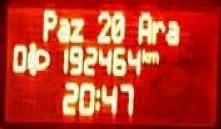0: (77, 79, 92, 114), (110, 11, 126, 42), (11, 42, 26, 71)
1: (61, 44, 68, 74)
2: (60, 81, 77, 116), (96, 9, 110, 45), (81, 44, 96, 74)
4: (100, 82, 117, 116), (126, 46, 140, 76), (96, 45, 110, 74)
6: (111, 42, 125, 77)
7: (119, 81, 135, 116)
9: (68, 44, 81, 74)
X: (137, 9, 151, 44), (41, 7, 55, 42), (165, 17, 179, 46), (151, 15, 164, 44), (70, 16, 84, 42), (56, 16, 69, 42), (92, 84, 100, 112), (140, 45, 149, 64), (149, 49, 159, 64)
